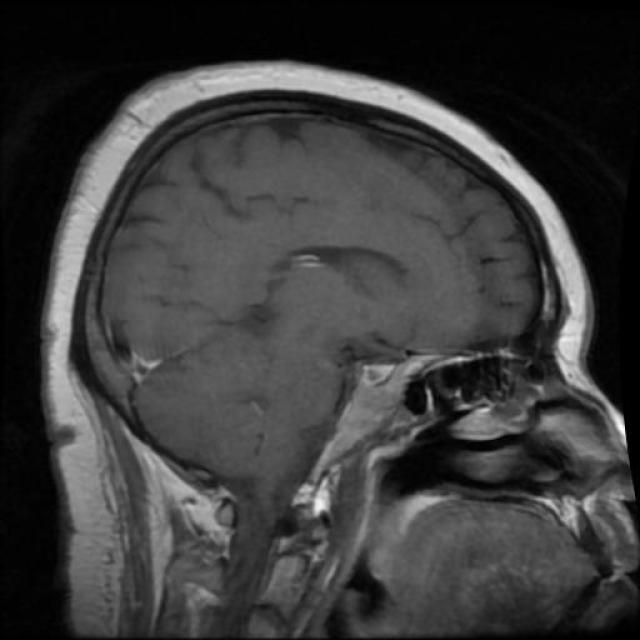pituitary: (346, 344, 414, 406)
